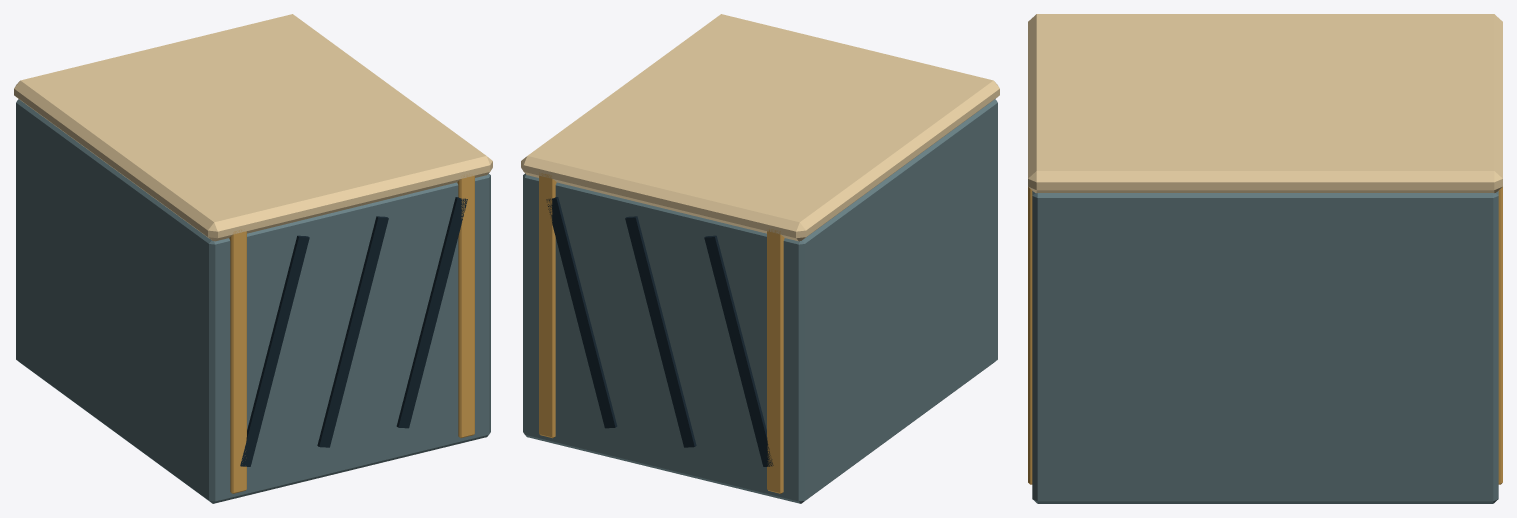
Rendered from cover.glb.
3 views of the same model, side by side, from view 1: azimuth 30°, elevation 25°; view 2: azimuth 150°, elevation 25°; view 3: azimuth 270°, elevation 25° (orthographic). The views are drawn at different scales.
Parts seen in each view (by area): view 1: cover_solid; view 2: cover_solid; view 3: cover_solid.
Part boxes in pixels (<box>): cover_solid: <box>14,14,492,503</box>; cover_solid: <box>521,14,999,503</box>; cover_solid: <box>1028,14,1502,503</box>.
Bounding box in the file's own units: 1.8 × 1.7 × 2.2.
